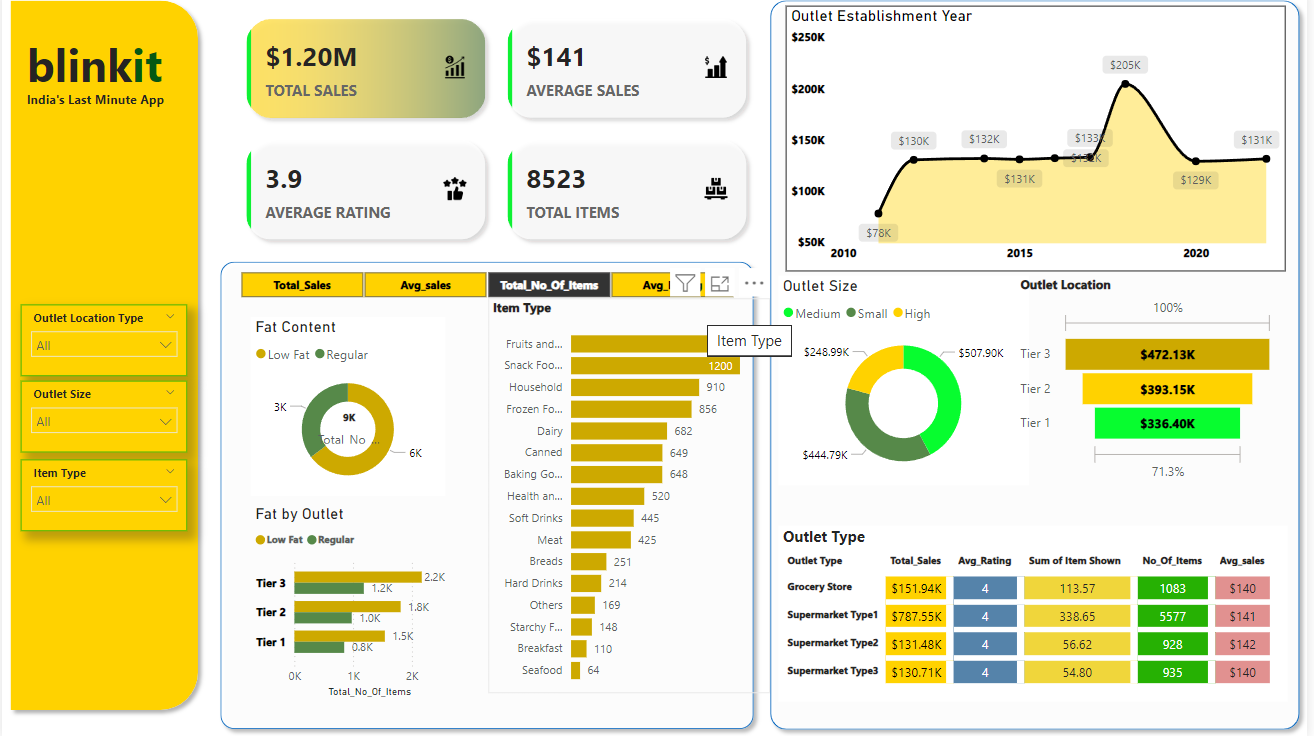

What the dashboard file says about the page in this screenshot:
{"tool":"powerbi","page":{"name":"Page 1","canvas":[1400,800],"ordinal":0},"visuals":[{"type":"shape","box":[0,0,219.1,778.9],"z":0},{"type":"textbox","box":[21,40.5,204.1,82.5],"z":1000},{"type":"textbox","box":[21,100.6,357.2,57],"z":2000},{"type":"cardVisual","fields":{"Data":["BlinkIT Grocery Data.total_sales","BlinkIT Grocery Data.Avg_sales","BlinkIT Grocery Data.Avg_Rating","BlinkIT Grocery Data.total_no_of_items"]},"box":[244.6,12,570.3,270.2],"z":3000},{"type":"shape","box":[225.1,280.7,589.8,519.3],"z":4000},{"type":"donutChart","title":"Fat Content","fields":{"Y":["BlinkIT Grocery Data.Total_No_Of_Items"],"Category":["BlinkIT Grocery Data.Item Fat Content"]},"box":[267.2,348.2,208.6,192.1],"z":5000},{"type":"slicer","fields":{"Values":["Metrices.Metrices"]},"box":[231.1,294.2,577.8,40.5],"z":6000},{"type":"cardVisual","fields":{"Data":["BlinkIT Grocery Data.Total_No_Of_Items"]},"box":[312.2,423.2,120.1,66],"z":7000},{"type":"clusteredBarChart","title":"Fat by Outlet","fields":{"Y":["BlinkIT Grocery Data.Total_No_Of_Items"],"Category":["BlinkIT Grocery Data.Outlet Location Type"],"Series":["BlinkIT Grocery Data.Item Fat Content"]},"box":[267.2,549.3,220.6,211.6],"z":8000},{"type":"barChart","title":"Item Type","fields":{"Y":["BlinkIT Grocery Data.Total_No_Of_Items"],"Category":["BlinkIT Grocery Data.Item Type"]},"box":[520.8,328.7,303.2,423.2],"z":9000},{"type":"shape","box":[815,0,585.3,800],"z":10000},{"type":"lineChart","title":"Outlet Establishment Year","fields":{"Category":["BlinkIT Grocery Data.Outlet Establishment Year"],"Y":["BlinkIT Grocery Data.Total_Sales"]},"box":[840.5,15,535.8,285.2],"z":11000},{"type":"donutChart","title":"Outlet Size","fields":{"Y":["BlinkIT Grocery Data.Total_Sales"],"Category":["BlinkIT Grocery Data.Outlet Size"]},"box":[833,304.7,268.7,225.1],"z":12000},{"type":"funnel","title":"Outlet Location","fields":{"Category":["BlinkIT Grocery Data.Outlet Location Type"],"Y":["BlinkIT Grocery Data.Total_Sales"]},"box":[1086.6,304.7,282.2,225.1],"z":13000},{"type":"pivotTable","title":"Outlet Type","fields":{"Rows":["BlinkIT Grocery Data.Outlet Type"],"Values":["BlinkIT Grocery Data.Total_Sales","BlinkIT Grocery Data.Avg_Rating","Sum(BlinkIT Grocery Data.Item Visibility)","BlinkIT Grocery Data.Total_No_Of_Items","BlinkIT Grocery Data.Avg_sales"]},"box":[833,571.8,546.3,189.1],"z":14000},{"type":"slicer","fields":{"Values":["BlinkIT Grocery Data.Outlet Location Type"]},"box":[19.5,334.7,178.6,76.5],"z":15000},{"type":"slicer","fields":{"Values":["BlinkIT Grocery Data.Outlet Size"]},"box":[19.5,417.2,178.6,76.5],"z":16000},{"type":"slicer","fields":{"Values":["BlinkIT Grocery Data.Item Type"]},"box":[19.5,501.3,178.6,76.5],"z":17000}]}

Visuals, with their boxes in screenshot pixels (x1, y1, x2, y2), scaled from the page's 1400x800 canvas onto the 1314x736 screenshot:
shape: crop(0, 0, 206, 717)
textbox: crop(20, 37, 211, 113)
textbox: crop(20, 93, 355, 145)
cardVisual - BlinkIT Grocery Data.total_sales x BlinkIT Grocery Data.Avg_sales: crop(230, 11, 765, 260)
shape: crop(211, 258, 765, 735)
"Fat Content" donutChart: crop(251, 320, 447, 497)
slicer - Metrices.Metrices: crop(217, 271, 759, 308)
cardVisual - BlinkIT Grocery Data.Total_No_Of_Items: crop(293, 389, 406, 450)
"Fat by Outlet" clusteredBarChart: crop(251, 505, 458, 700)
"Item Type" barChart: crop(489, 302, 773, 692)
shape: crop(765, 0, 1313, 735)
"Outlet Establishment Year" lineChart: crop(789, 14, 1292, 276)
"Outlet Size" donutChart: crop(782, 280, 1034, 487)
"Outlet Location" funnel: crop(1020, 280, 1285, 487)
"Outlet Type" pivotTable: crop(782, 526, 1295, 700)
slicer - BlinkIT Grocery Data.Outlet Location Type: crop(18, 308, 186, 378)
slicer - BlinkIT Grocery Data.Outlet Size: crop(18, 384, 186, 454)
slicer - BlinkIT Grocery Data.Item Type: crop(18, 461, 186, 532)
